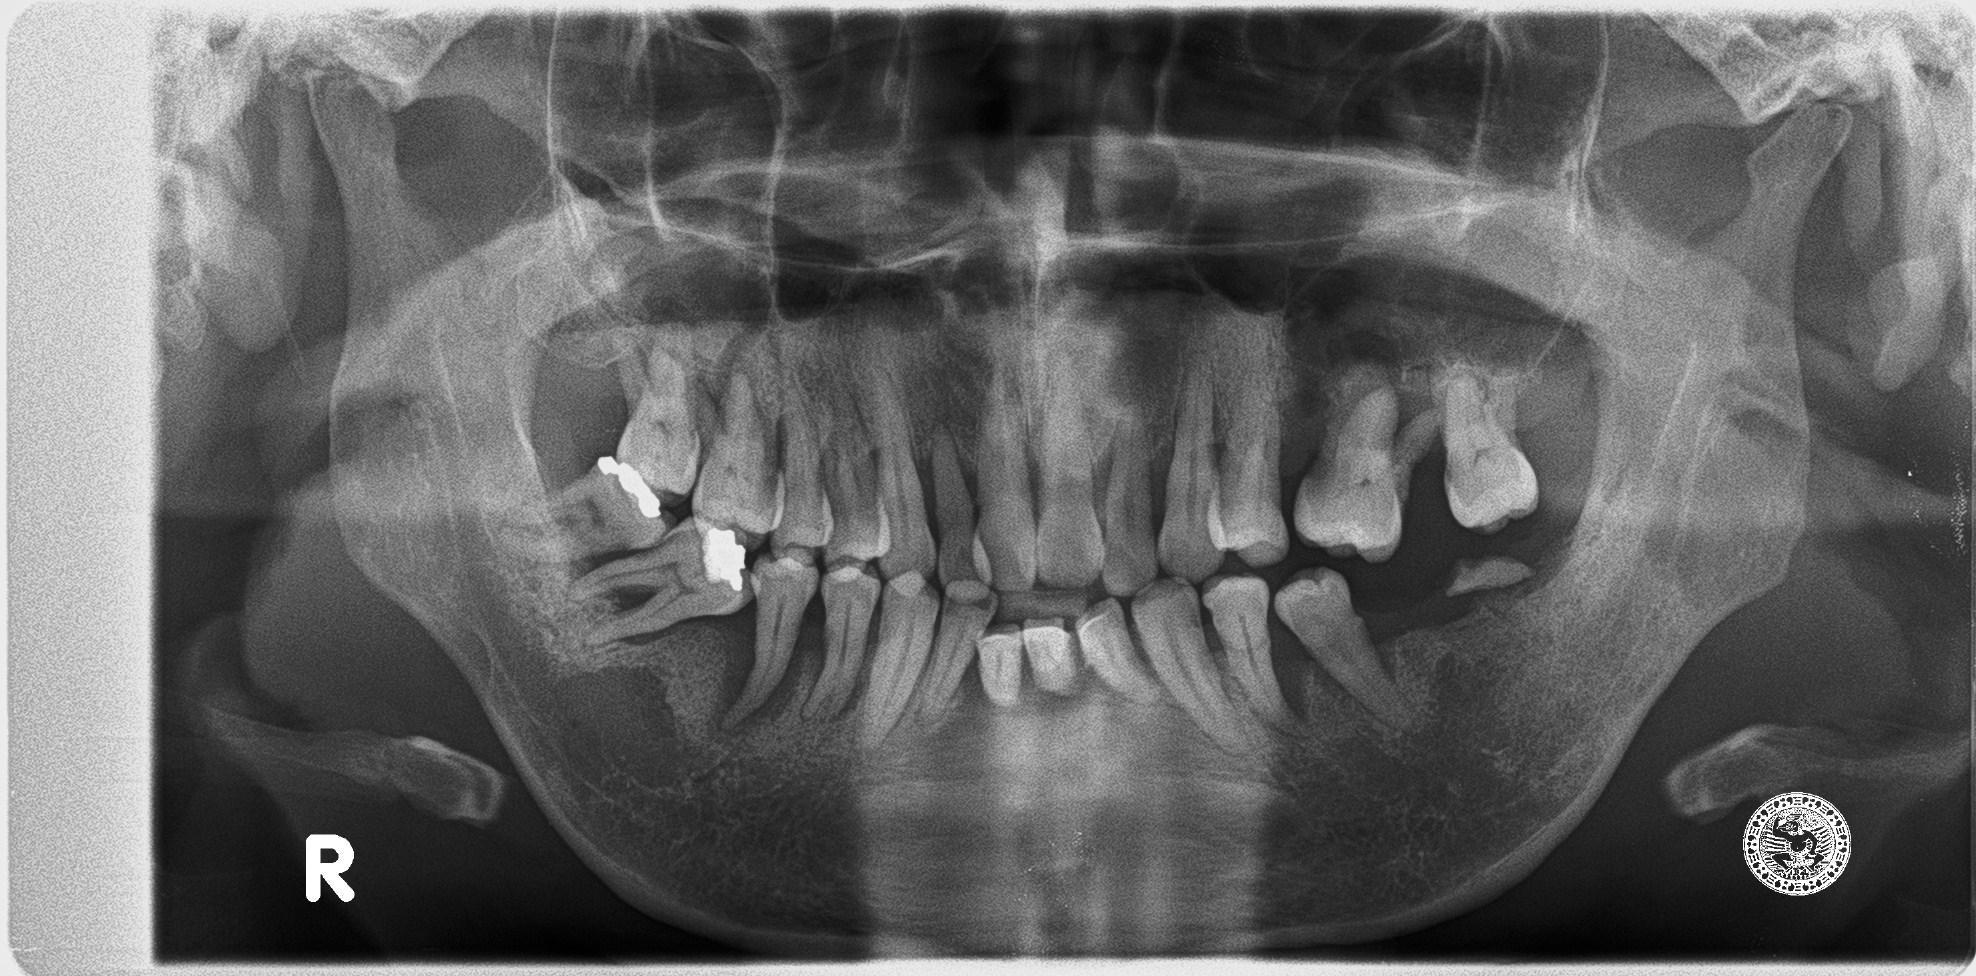Individual Tooth: (1294, 386, 1452, 564), (560, 517, 761, 647), (1129, 578, 1269, 753), (1273, 567, 1411, 728), (692, 334, 790, 550), (493, 456, 677, 567), (1424, 357, 1536, 535), (1207, 364, 1288, 567), (1036, 351, 1104, 588), (728, 547, 819, 723), (614, 324, 699, 509), (1158, 353, 1225, 583), (864, 395, 935, 595), (859, 571, 940, 747), (972, 375, 1035, 590), (770, 369, 834, 570), (907, 581, 993, 729), (1203, 576, 1285, 723), (804, 562, 881, 717), (933, 431, 991, 604), (1103, 417, 1158, 596), (824, 420, 891, 562), (1076, 600, 1156, 699), (1021, 619, 1077, 694), (975, 625, 1025, 706)
